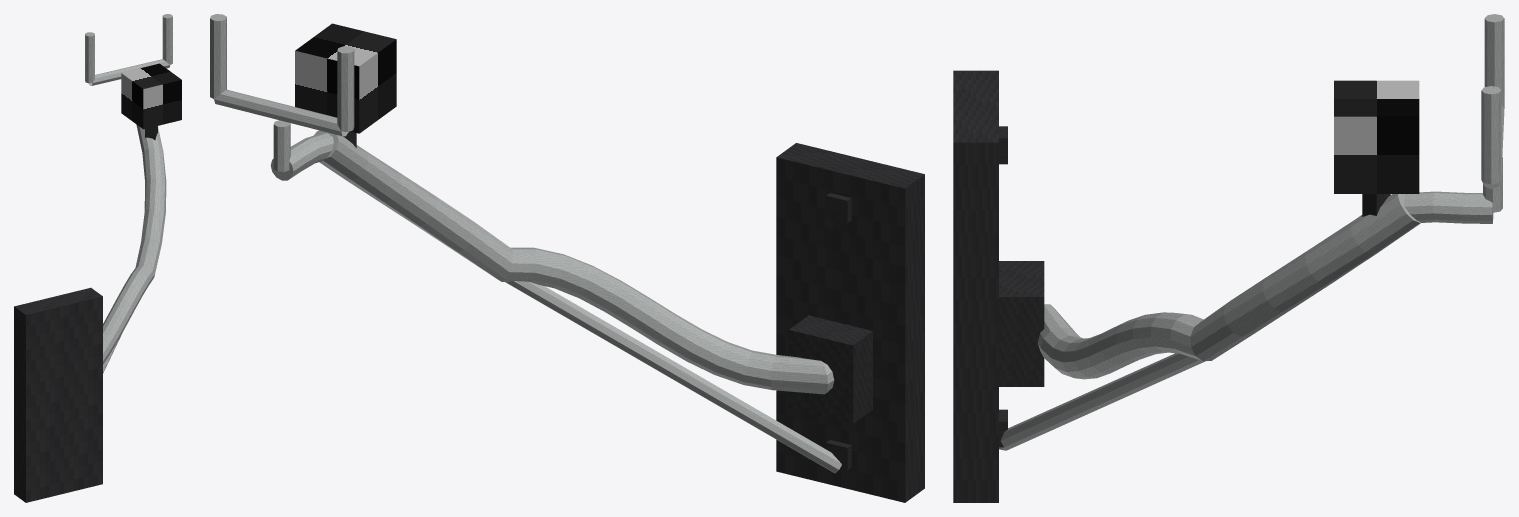
The model's file is arm_1_right_flood_up.obj.
3 renders of one model, left to right at view 1: azimuth 30°, elevation 25°; view 2: azimuth 150°, elevation 25°; view 3: azimuth 270°, elevation 25°, orthographic. The views are drawn at different scales.
Parts seen in each view (by area): view 1: pole_light_mount_1_right_flood_up; view 2: pole_light_mount_1_right_flood_up; view 3: pole_light_mount_1_right_flood_up.
Boxes of the visible parts, x1,y1,x2,y2 form: pole_light_mount_1_right_flood_up: (14,14,181,502); pole_light_mount_1_right_flood_up: (210,14,924,502); pole_light_mount_1_right_flood_up: (953,14,1504,502).
Bounding box in the file's own units: 1.4 × 1.47 × 1.21.
